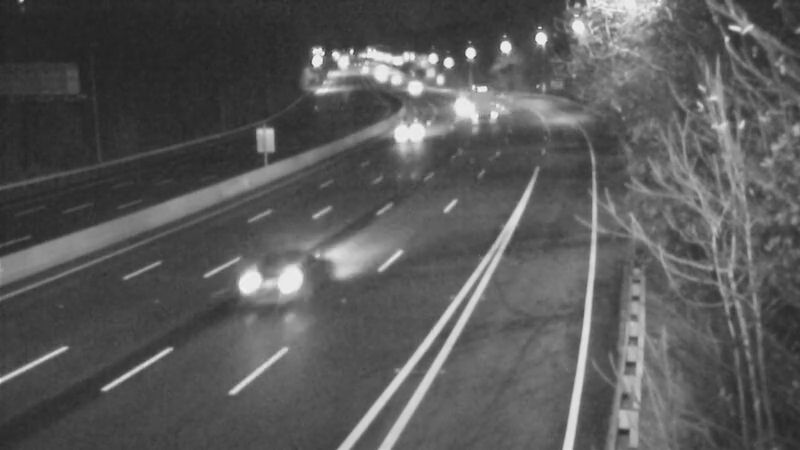vehicle: (224, 241, 304, 321), (370, 54, 420, 104), (384, 65, 434, 115), (451, 78, 501, 128), (429, 80, 479, 130), (393, 103, 443, 153)
